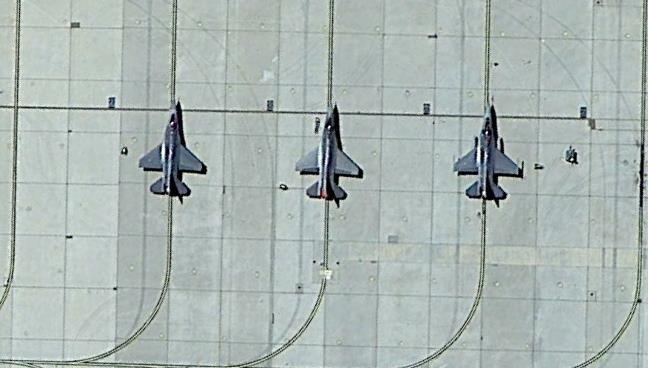F-16: (289, 105, 367, 204), (453, 100, 525, 201), (136, 104, 210, 199)
